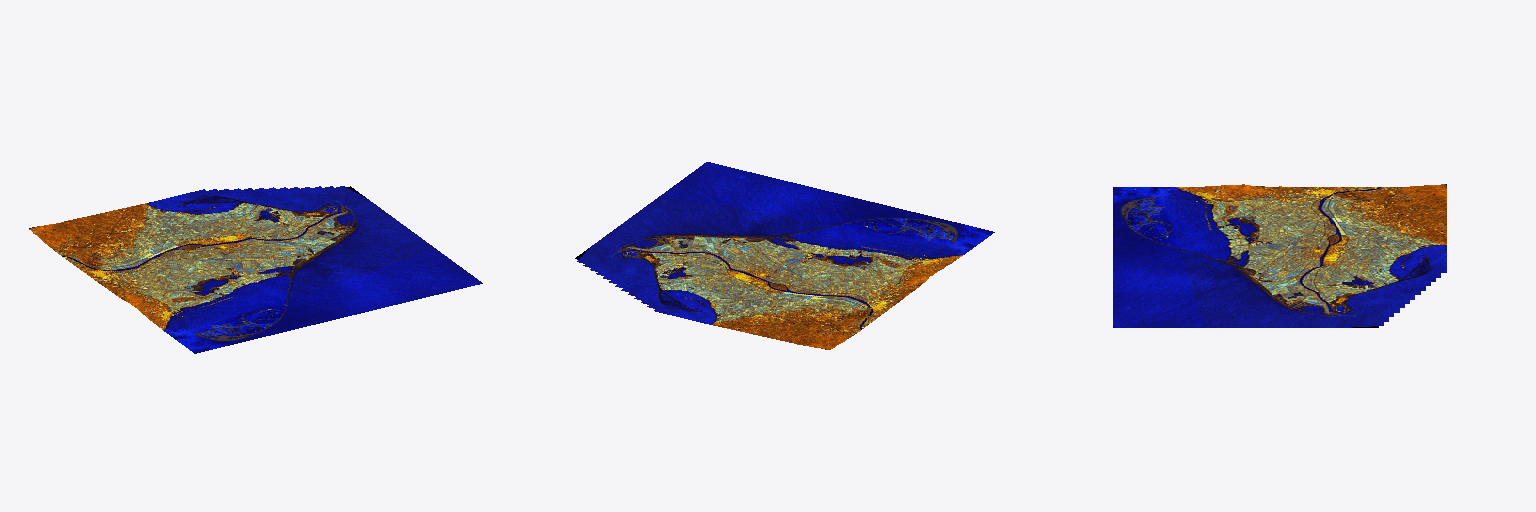
3 views of the same model, side by side, from view 1: azimuth 30°, elevation 25°; view 2: azimuth 150°, elevation 25°; view 3: azimuth 270°, elevation 25° (orthographic).
Parts seen in each view (by area): view 1: deltaMulti_MetElipResi; view 2: deltaMulti_MetElipResi; view 3: deltaMulti_MetElipResi.
Boxes of the visible parts, x1,y1,x2,y2 form: deltaMulti_MetElipResi: [29, 186, 482, 353]; deltaMulti_MetElipResi: [575, 162, 994, 349]; deltaMulti_MetElipResi: [1113, 184, 1446, 327].
Bounding box in the file's own units: 28620 × 350 × 28620.
Materials: 1 (1 with a texture image).